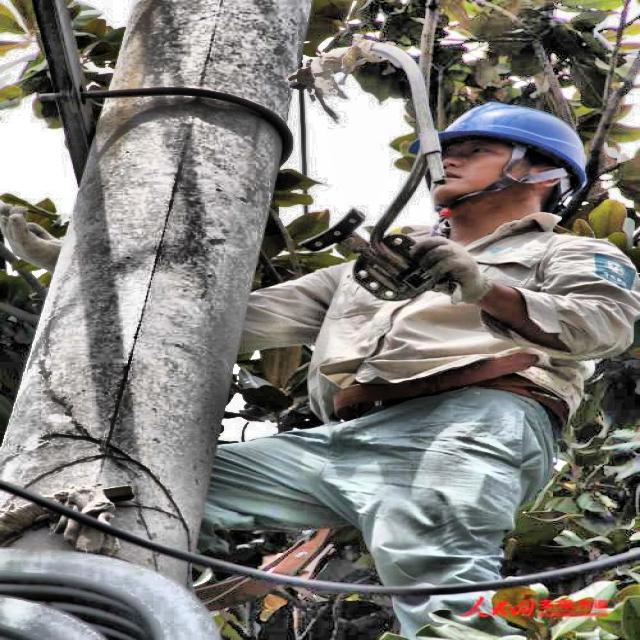helmet: (411, 84, 601, 228)
